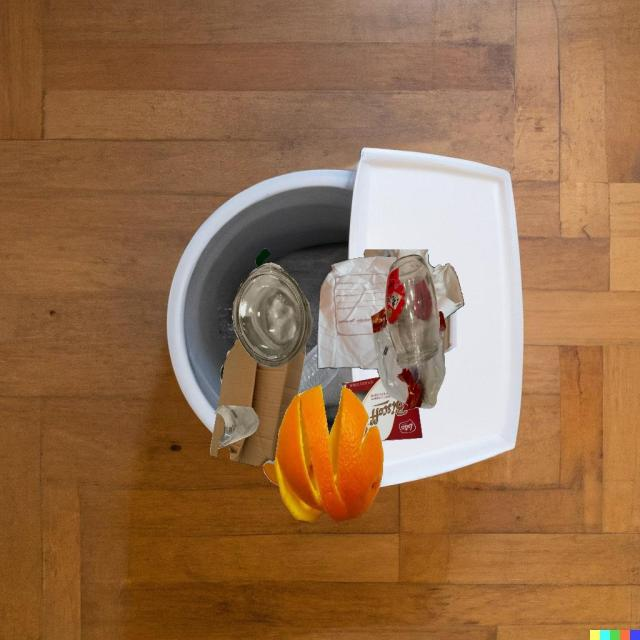biowaste: (275, 384, 383, 522)
cardboard: (210, 338, 305, 466), (339, 377, 423, 441)
glass: (232, 263, 313, 368), (385, 254, 440, 369), (214, 405, 259, 446), (221, 363, 225, 383), (267, 460, 275, 464)
paper: (317, 256, 397, 369), (364, 249, 464, 320)
plastic: (371, 307, 446, 410), (298, 344, 338, 395), (263, 462, 279, 486), (255, 248, 271, 267)
trash: (383, 305, 385, 309)
